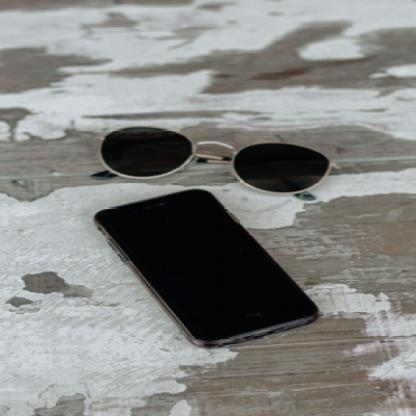cell-phone: (81, 191, 333, 361)
